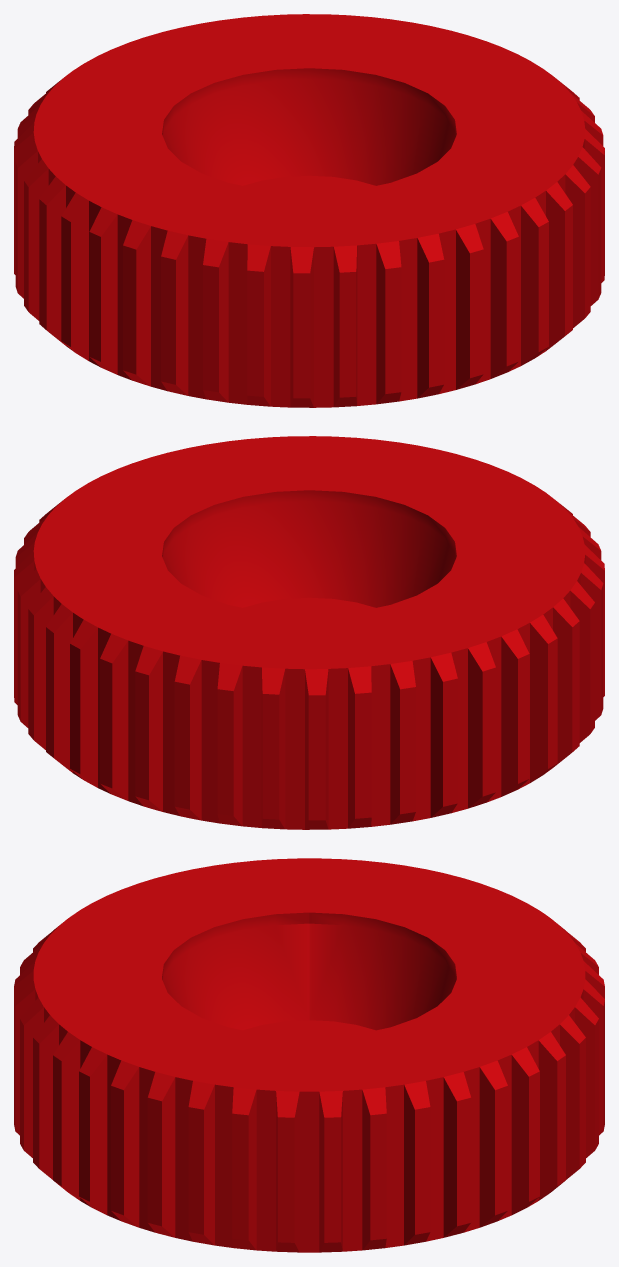
The model's file is koleso.fbx.
3 views of the same model, one above another, from view 1: azimuth 30°, elevation 25°; view 2: azimuth 150°, elevation 25°; view 3: azimuth 270°, elevation 25° (orthographic).
Parts seen in each view (by area): view 1: koleso.001; view 2: koleso.001; view 3: koleso.001.
Part boxes in pixels (box(x1,y1,x2,y2)): koleso.001: box(14, 14, 604, 407); koleso.001: box(14, 436, 604, 829); koleso.001: box(14, 858, 604, 1252).
Bounding box in the file's own units: 5.99 × 1.8 × 5.99.
Materials: 1 (1 with a texture image).
